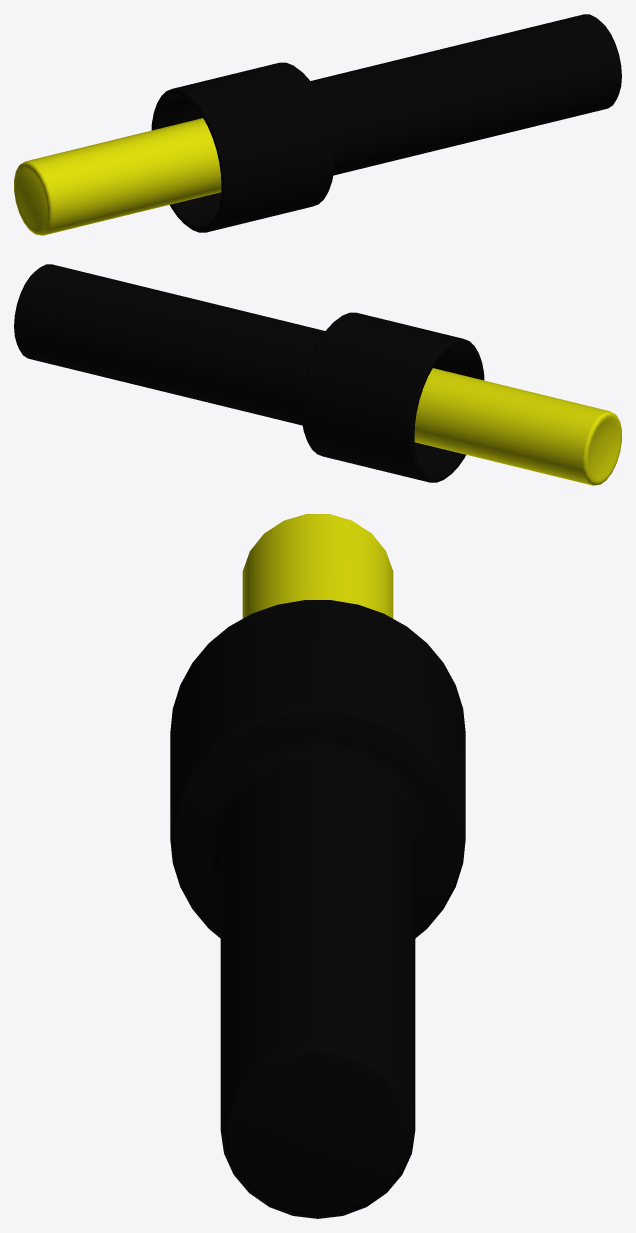
File: Термофен.fbx
3 views of the same model, one above another, from view 1: azimuth 30°, elevation 25°; view 2: azimuth 150°, elevation 25°; view 3: azimuth 270°, elevation 25° (orthographic). The views are drawn at different scales.
Parts seen in each view (by area): view 1: Termofen; view 2: Termofen; view 3: Termofen.
Part boxes in pixels (x1,y1,x2,y2): Termofen: [14, 14, 621, 235]; Termofen: [14, 264, 621, 485]; Termofen: [170, 514, 465, 1218].
Bounding box in the file's own units: 18.04 × 4.04 × 4.06.
